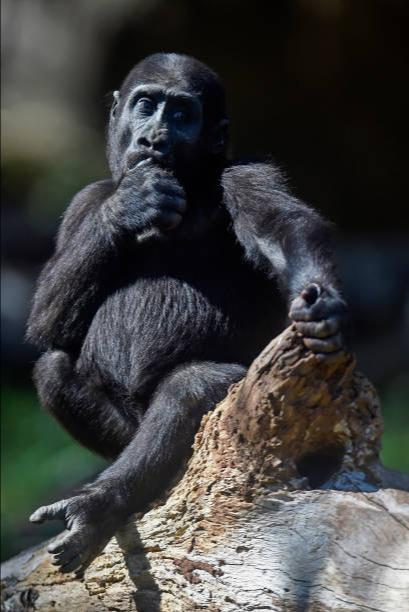gorille_Autres: (0, 0, 299, 528)
